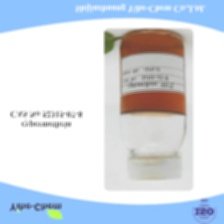insecticide: (114, 27, 189, 184)
